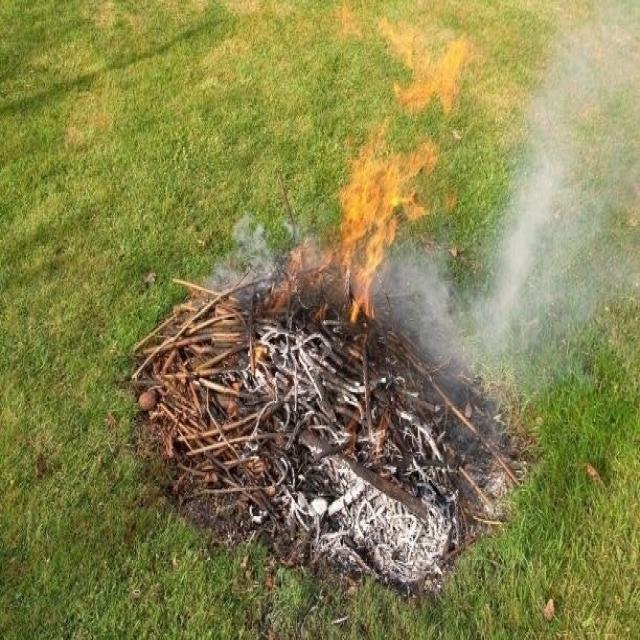Fire: (325, 70, 435, 316)
Smoke: (440, 0, 630, 430)
